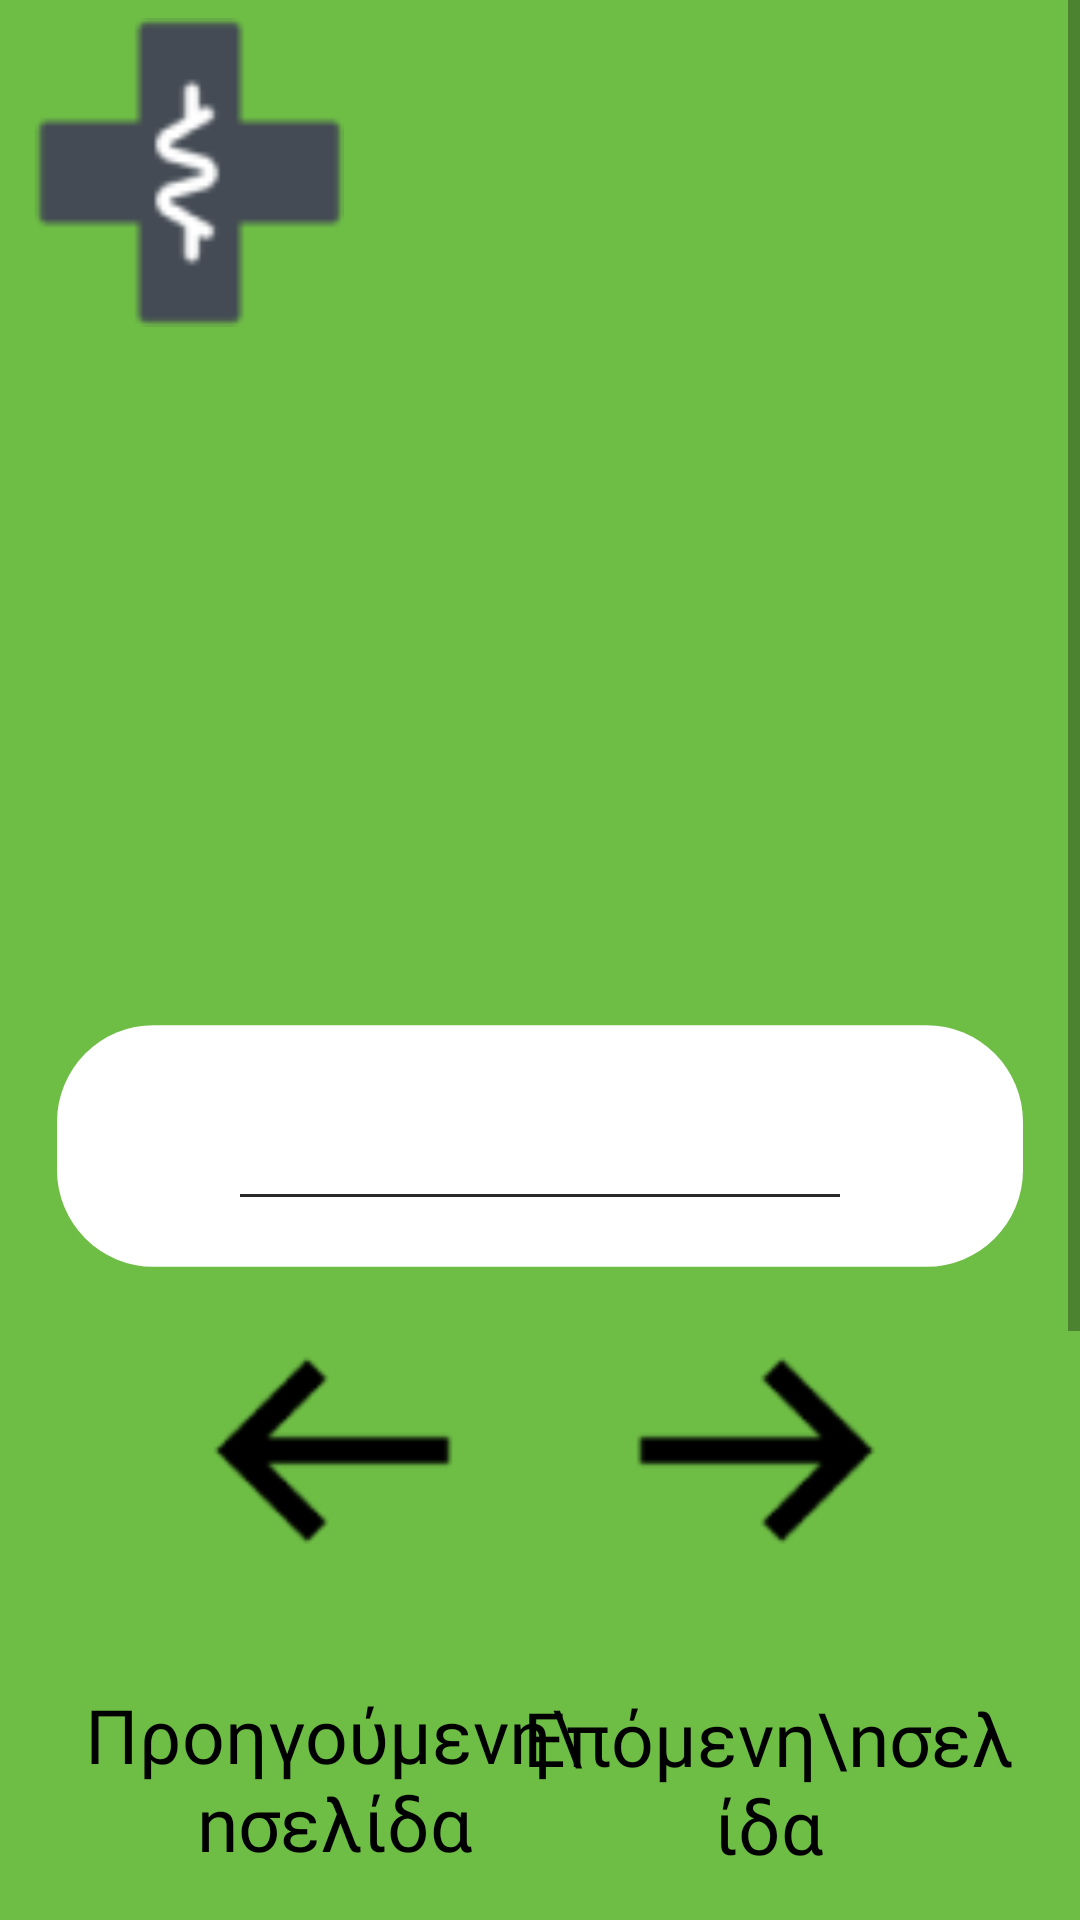

Named icons in this screenshot (1080 x 1920) and their bounding boxes, (x1, y1, x2, y2):
hospital: (38, 21, 341, 324)
left: (215, 1358, 452, 1543)
right: (637, 1358, 874, 1543)
